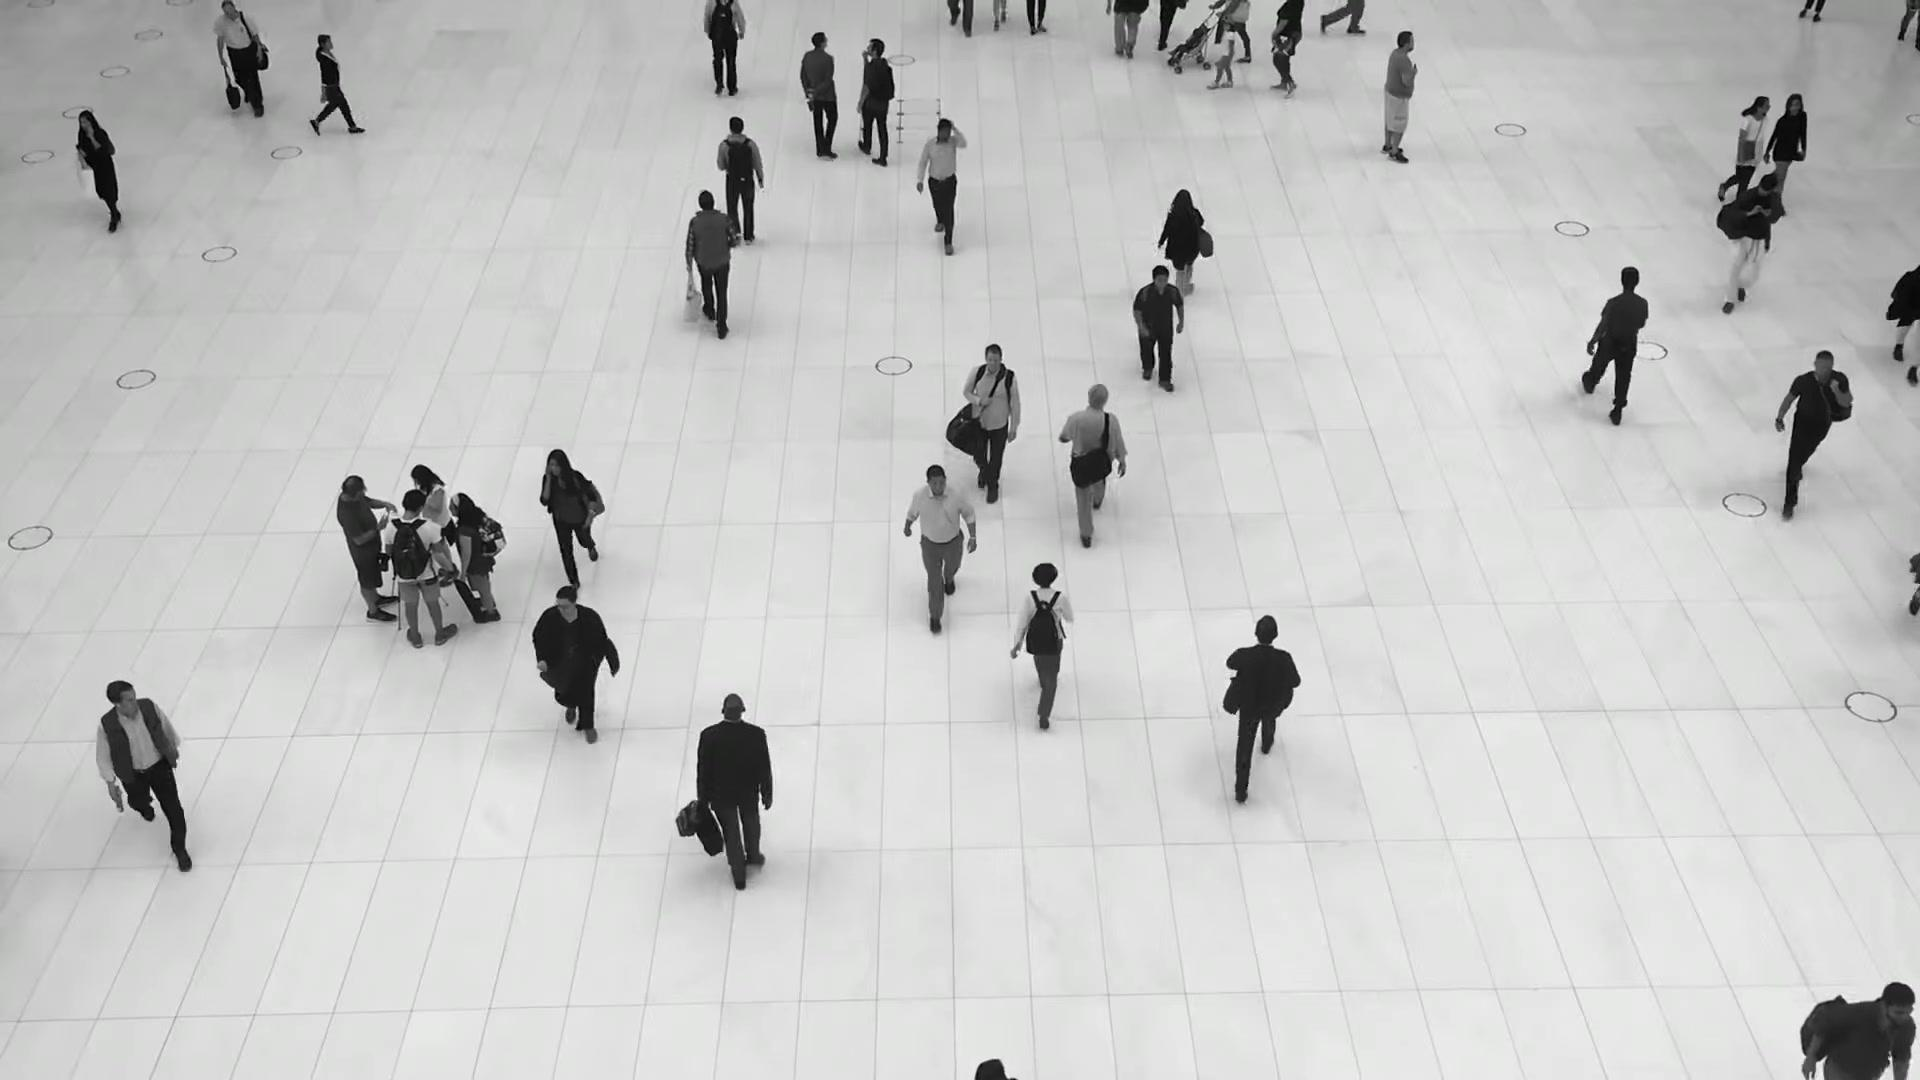person: (91, 678, 195, 873), (695, 697, 775, 893), (1218, 614, 1301, 799), (531, 586, 618, 753), (1775, 345, 1853, 508), (383, 488, 458, 650), (906, 461, 977, 626), (1801, 981, 1916, 1080), (1058, 382, 1126, 540), (1013, 562, 1073, 730), (1583, 265, 1649, 419), (336, 474, 400, 628), (963, 345, 1021, 510), (1717, 174, 1783, 318), (541, 447, 607, 588), (683, 189, 738, 335), (448, 491, 502, 623), (211, 0, 267, 118), (915, 115, 964, 248), (1133, 262, 1185, 385), (308, 33, 372, 135), (715, 119, 766, 242), (1158, 189, 1214, 301), (76, 109, 126, 231), (410, 463, 459, 587), (1715, 95, 1769, 200), (1381, 28, 1419, 163), (856, 36, 895, 165), (800, 32, 839, 162), (701, 0, 747, 101), (1763, 92, 1807, 193), (1266, 0, 1304, 97), (1213, 19, 1236, 90)
